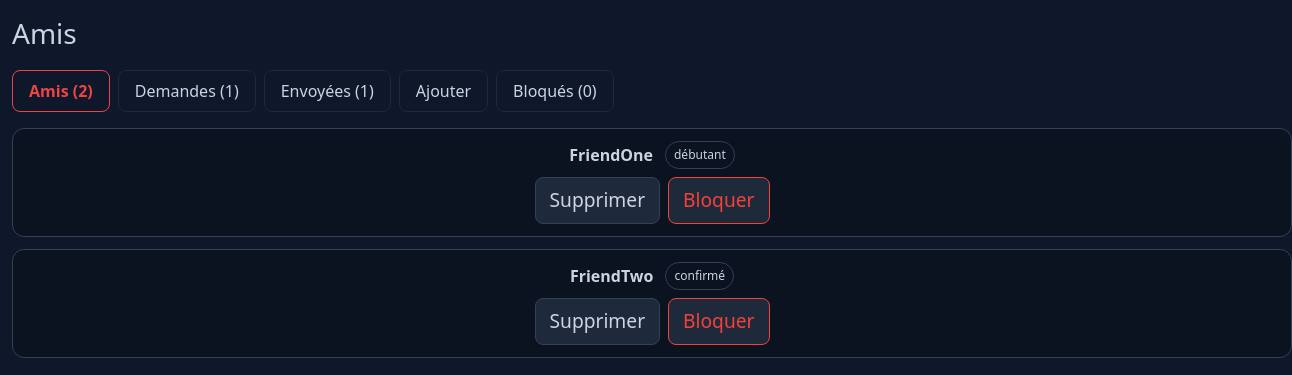
Test: FriendsPage › renders sent tab
Click the button with class "tab" showing "Envoyées (1)" at (327, 91), box [264, 70, 391, 112]
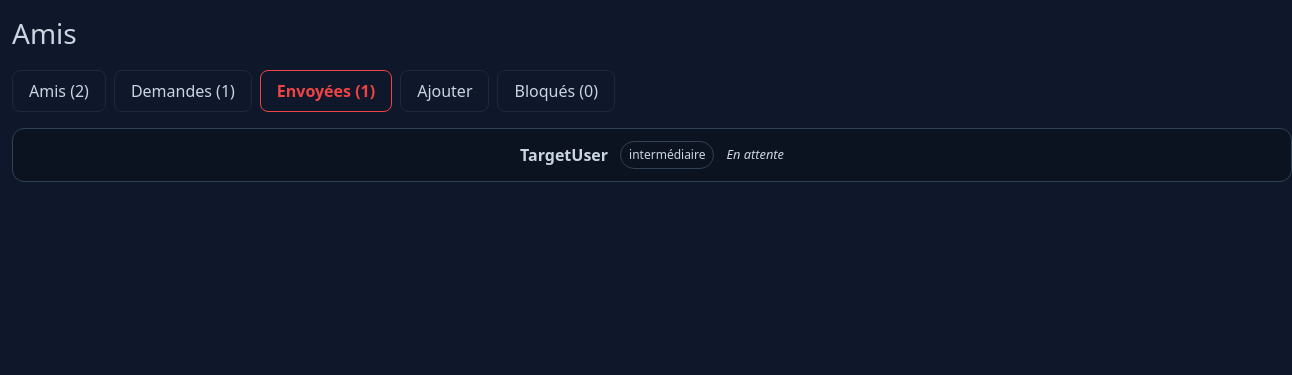
expect the text "TargetUser" is shown: met, box [520, 143, 608, 167]
expect the text "En attente" is shown: met, box [726, 145, 784, 165]
